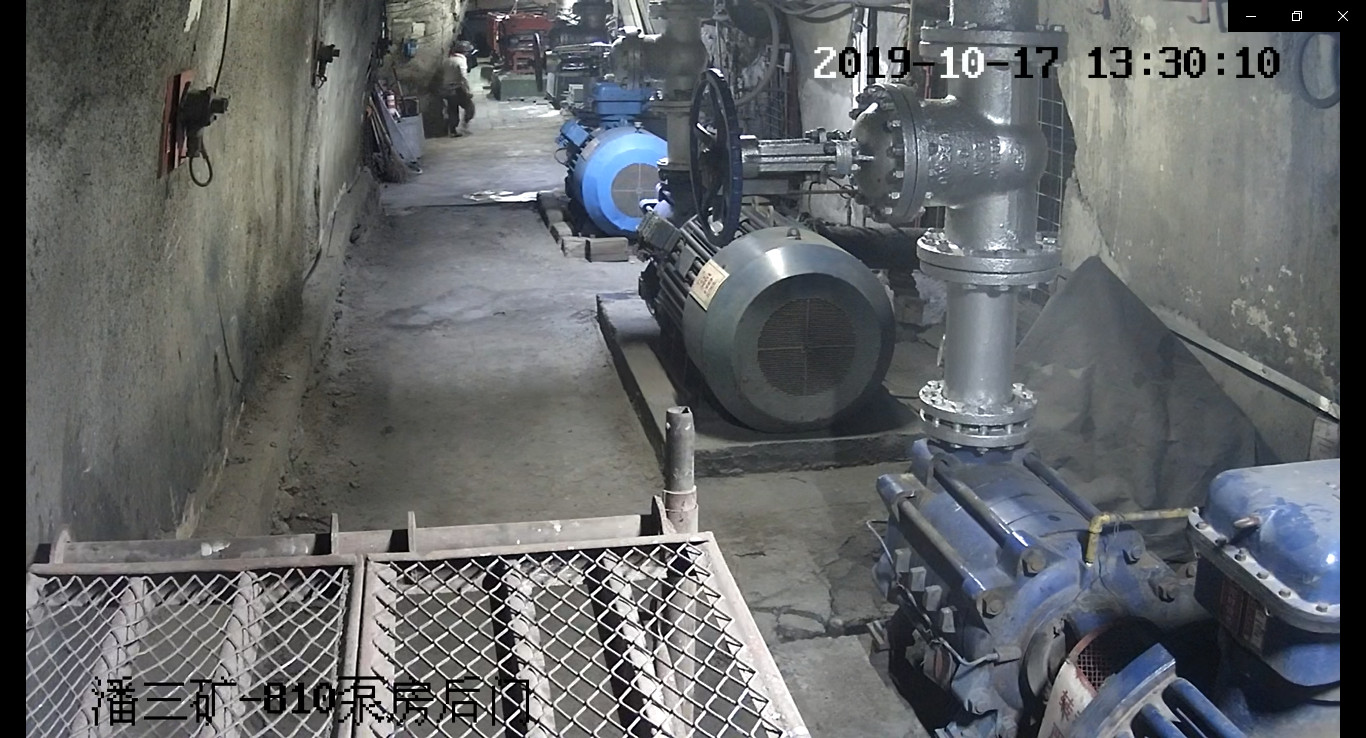helmet: (456, 40, 473, 48)
